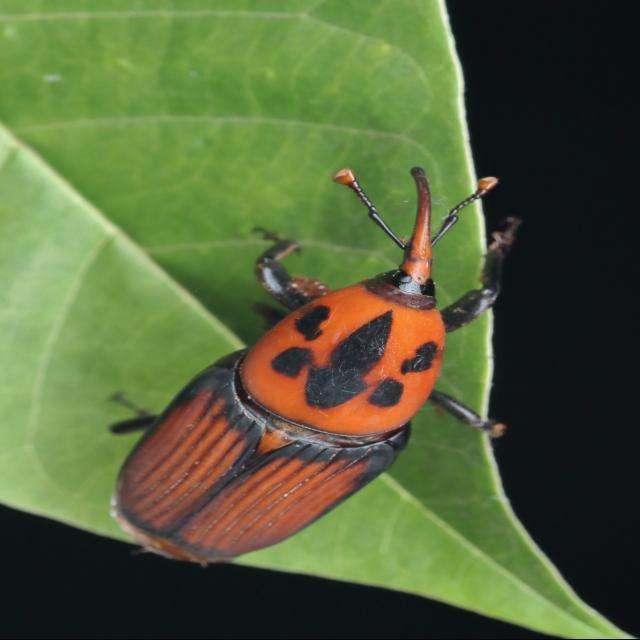Red-palm-weevil: (126, 167, 513, 568)
